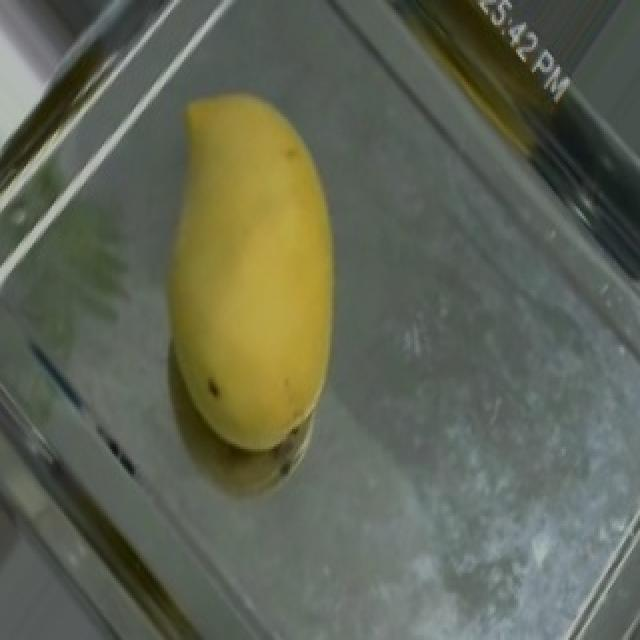fruit: (112, 42, 428, 474)
